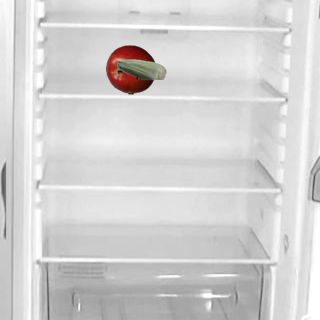Apple Braeburn: (105, 44, 155, 94)
Corn Husk: (116, 44, 166, 94)
